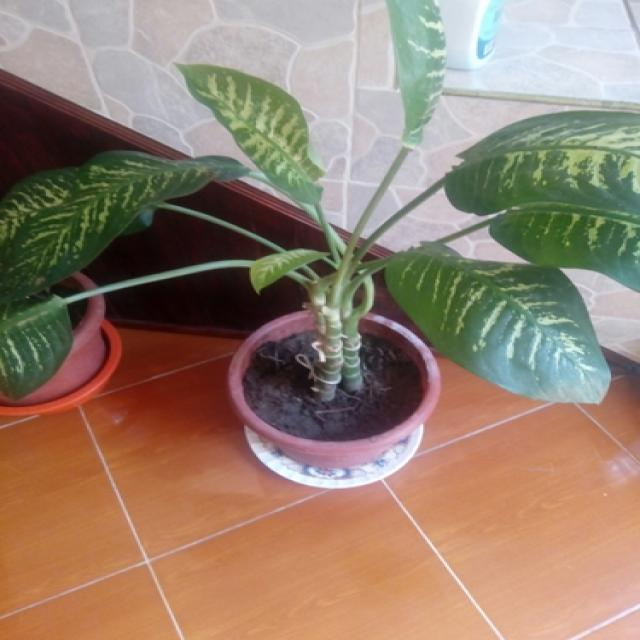dieffenbachia-oVHx: (0, 0, 640, 404)
